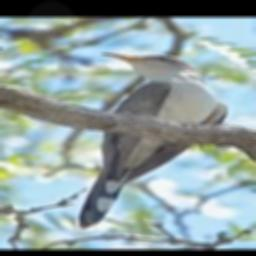Cuckoo: (77, 53, 228, 229)
